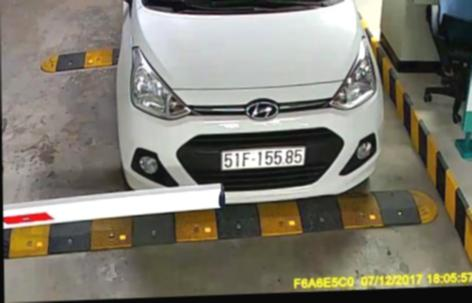License_Plate: (219, 144, 307, 172)
